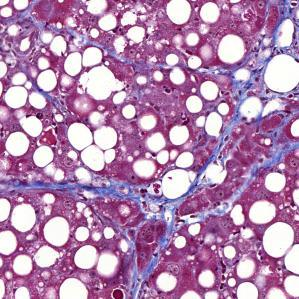fibrosis: (219, 66, 294, 150), (69, 185, 157, 213)
